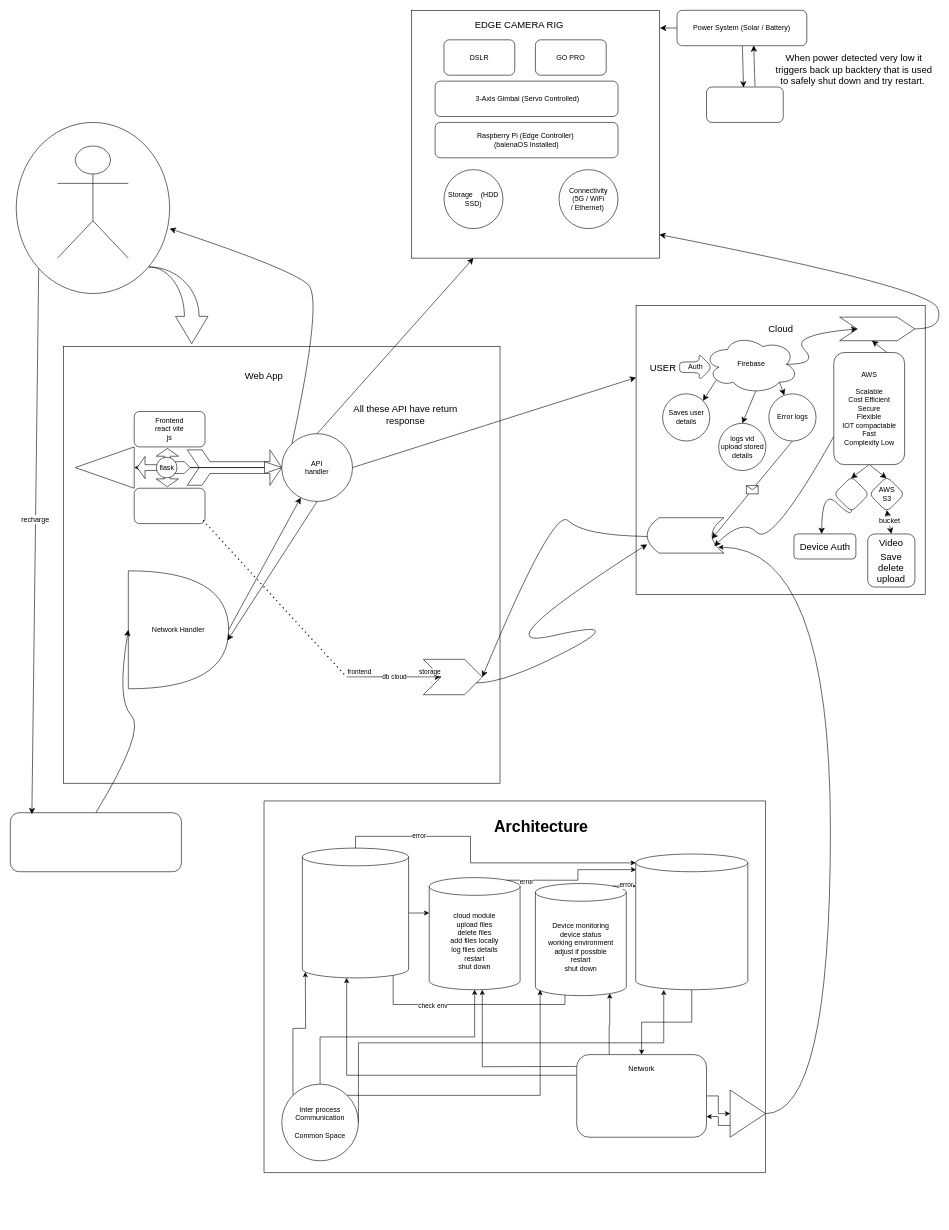
Image size: 949x1230. Some labels were removed from this diagram. The shapes that lost their labels are listed below. From the top down, each one's box as (x1, y1, x2, y2) in pixels, then its label:
(706, 86, 783, 122): Emergency Back Up
(57, 145, 128, 258): user interaction with web app
(839, 317, 915, 341): restart scalability
(75, 446, 134, 488): python
(134, 488, 205, 524): Backend node express db
(833, 476, 869, 512): AWS I AM
(647, 517, 724, 553): Notification
(10, 812, 181, 872): External Internet connection
(302, 848, 409, 978): Camera Module PTZ control mode control restart shut down capture set schedule
(635, 853, 748, 990): Error Module collect error restart container shutdown log error notify the user
(576, 1054, 707, 1137): MQTT Socket connection server connection
